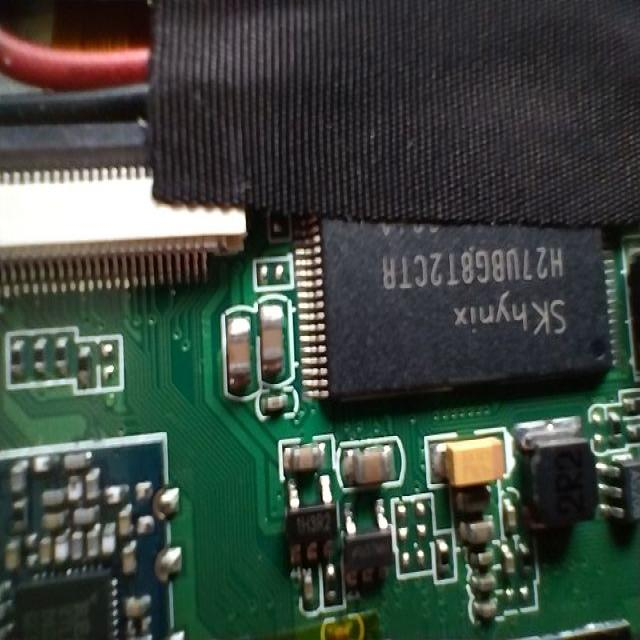capacitor: (425, 432, 531, 492), (254, 295, 298, 394), (218, 301, 259, 407), (343, 428, 406, 496), (277, 429, 330, 489), (288, 559, 320, 611)
resistor: (2, 326, 32, 400), (74, 322, 100, 403), (27, 321, 54, 394), (432, 528, 460, 596), (52, 324, 74, 394)
